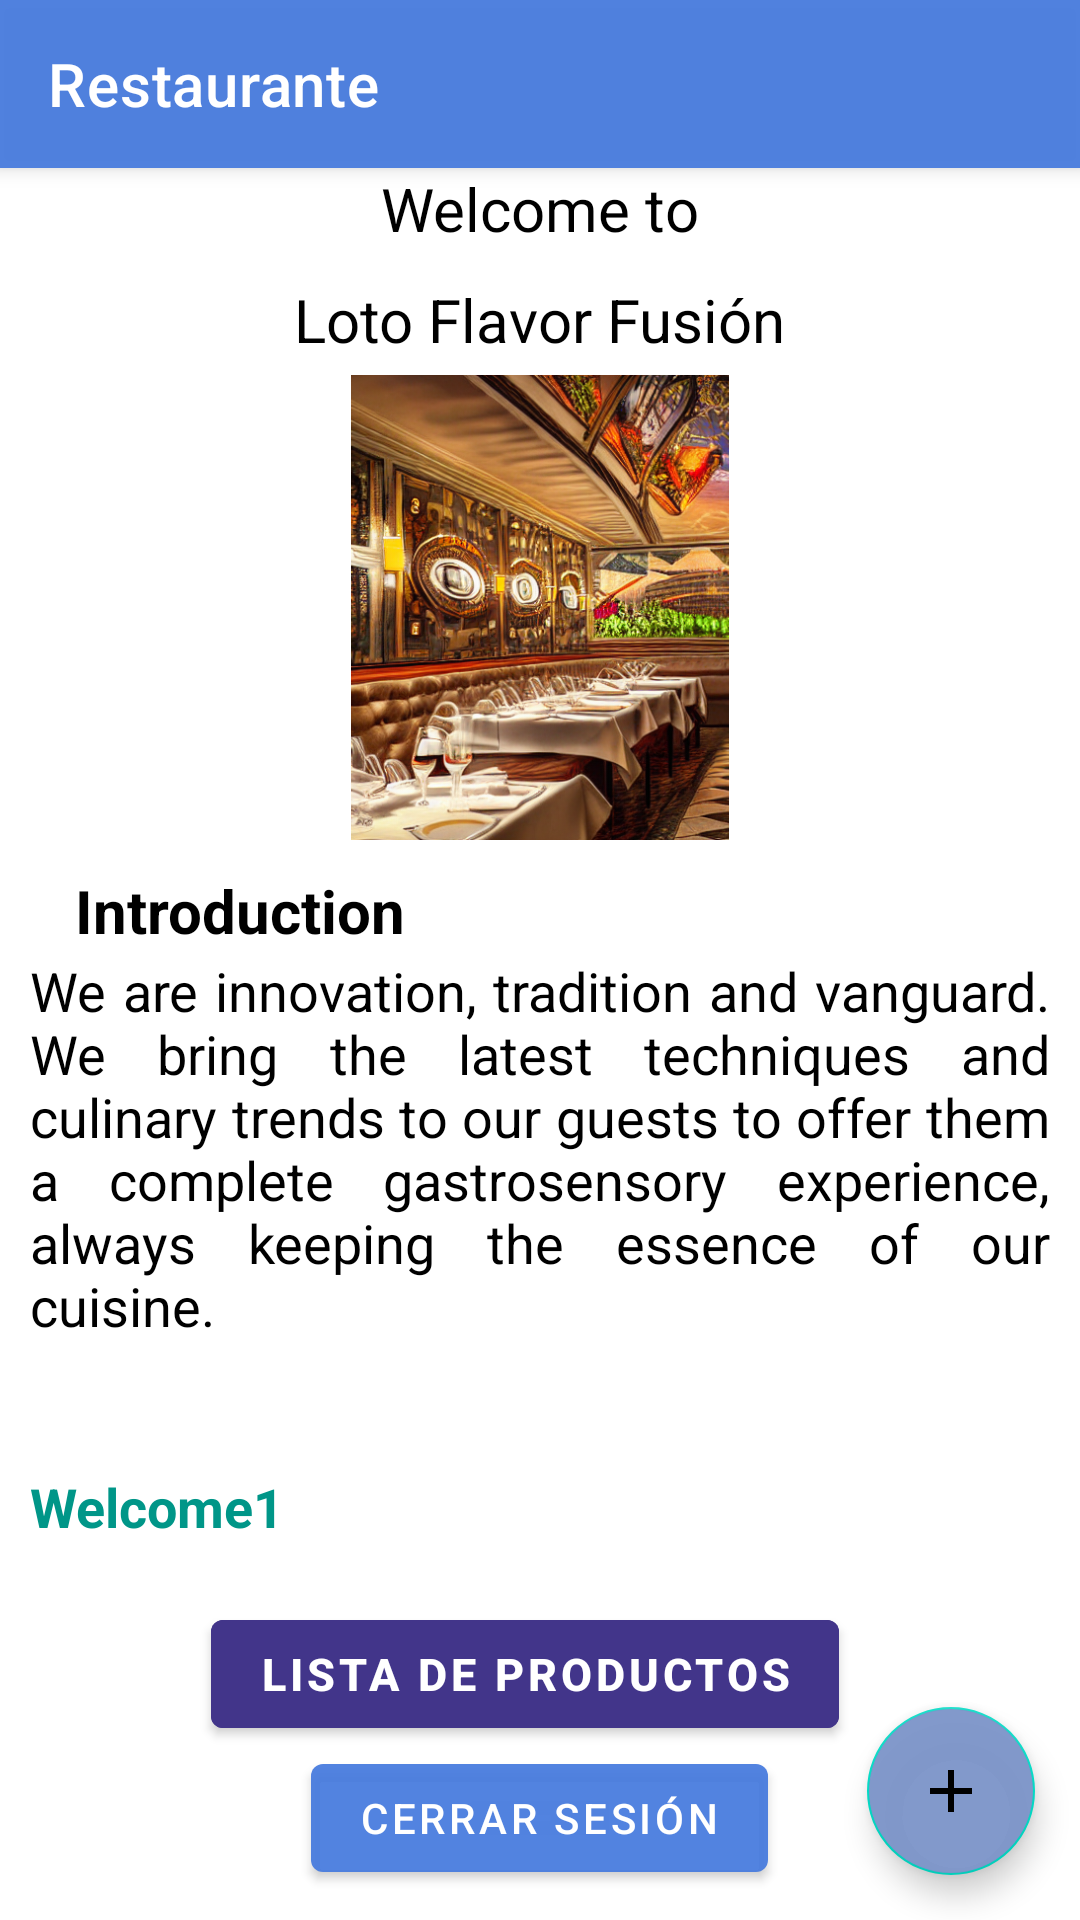

Named icons in this screenshot (1080 x 1920) and their bounding boxes, (x1, y1, x2, y2):
add: (867, 1707, 1035, 1875)
